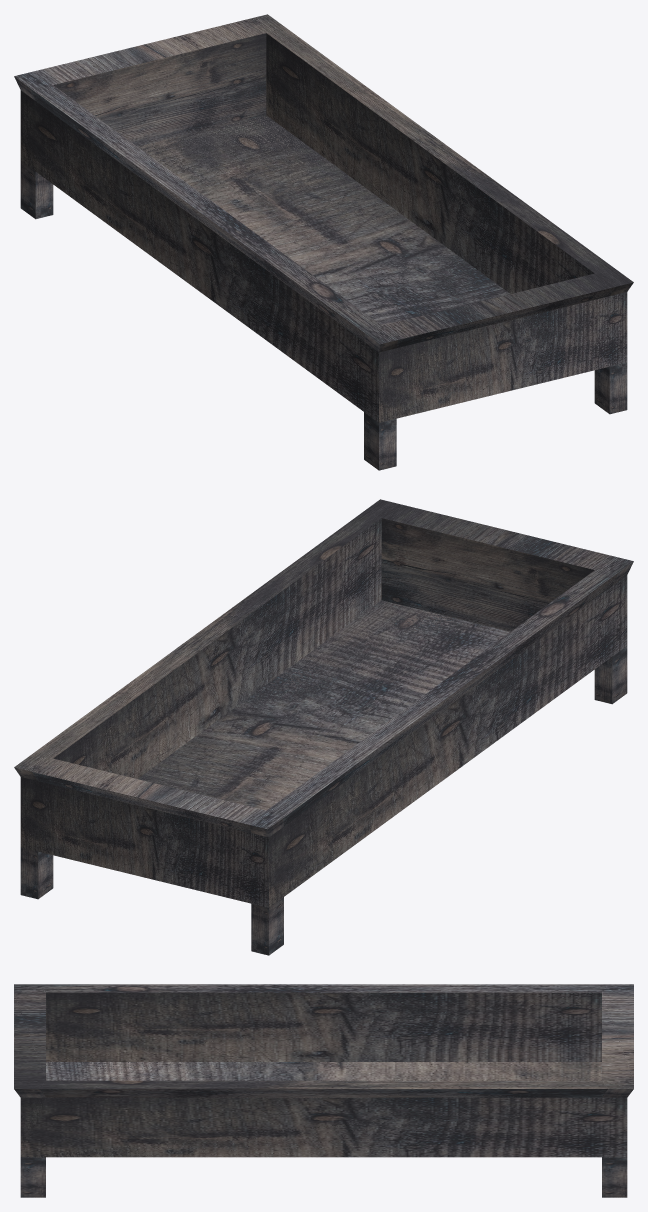
The model's file is water_trough.fbx.
3 renders of one model, top to bottom at view 1: azimuth 30°, elevation 25°; view 2: azimuth 150°, elevation 25°; view 3: azimuth 270°, elevation 25°, orthographic. The views are drawn at different scales.
Visible parts, largest first — view 1: Cube; view 2: Cube; view 3: Cube.
Part boxes in pixels (x1,y1,x2,y2): Cube: (14,14,633,470); Cube: (14,499,633,955); Cube: (14,984,633,1197).
Size of the model in its own units: 81.77 by 40 by 204.
